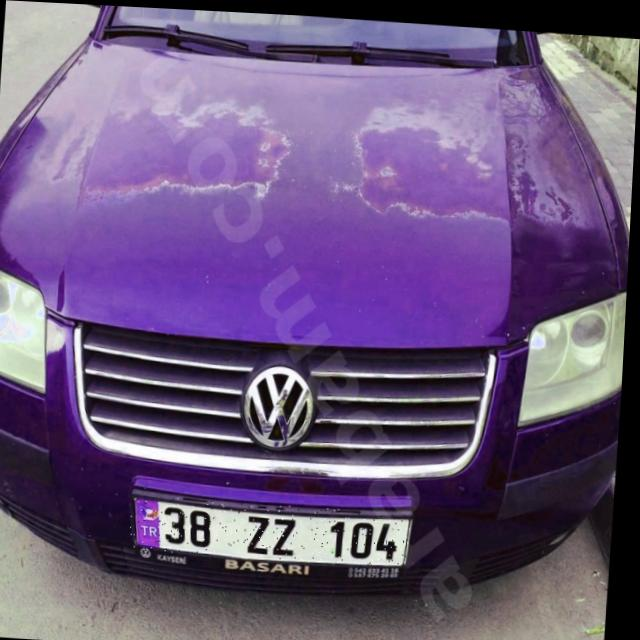license_plate: (134, 492, 417, 565)
